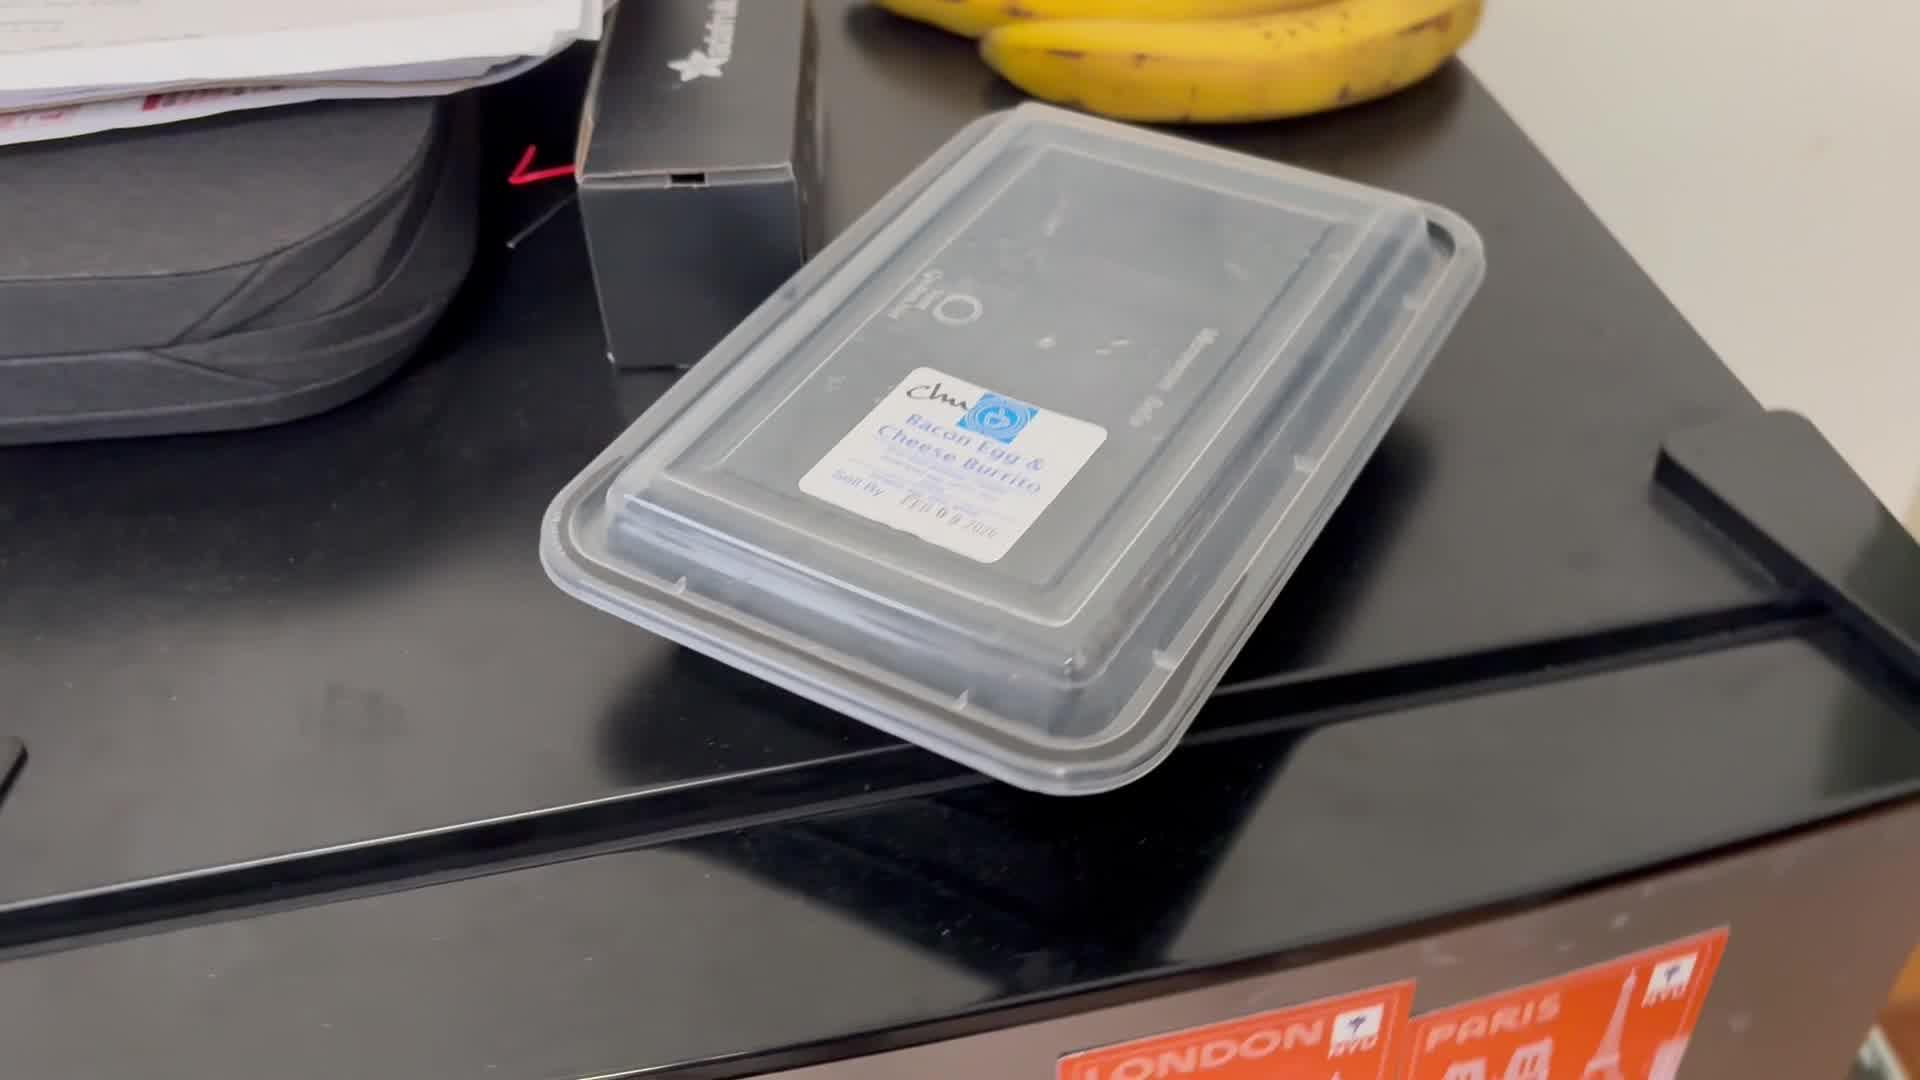lp_cup_lids: (525, 96, 1497, 829)
